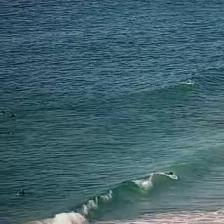surfer: (19, 190, 27, 195), (166, 171, 174, 175), (3, 131, 13, 134), (10, 114, 17, 118), (1, 110, 6, 114)
